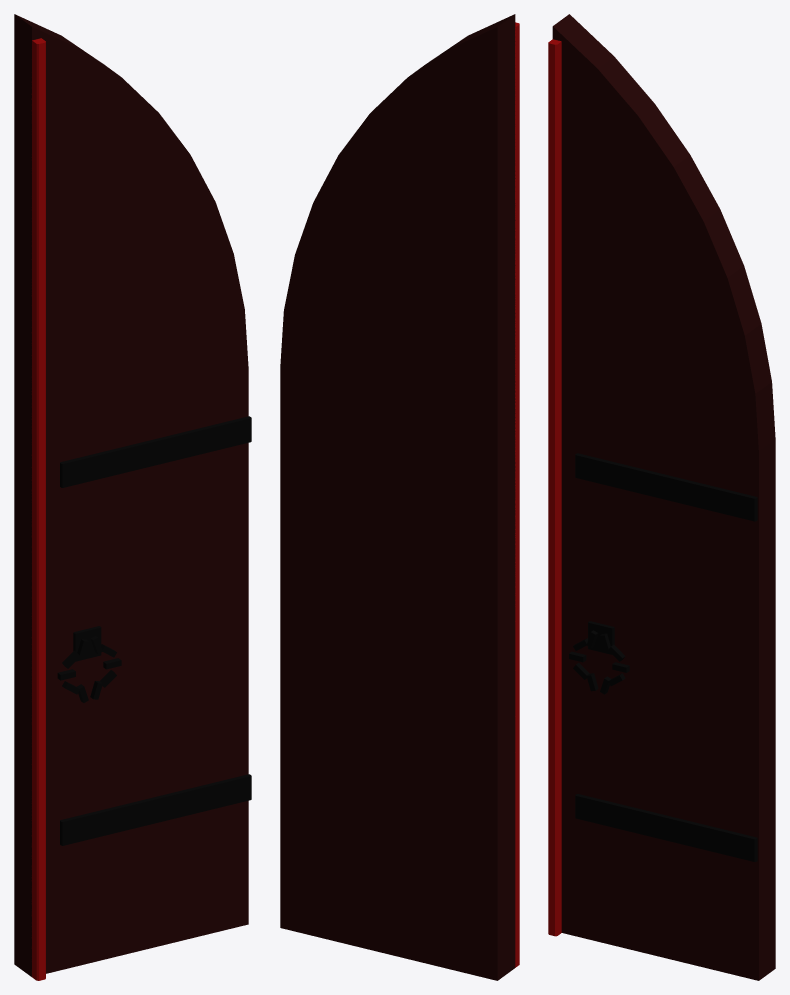
File: SilverbrookNorthridgeHouse1_Door2.fbx
3 views of the same model, side by side, from view 1: azimuth 30°, elevation 25°; view 2: azimuth 150°, elevation 25°; view 3: azimuth 330°, elevation 25° (orthographic). The views are drawn at different scales.
Visible parts, largest first — view 1: SM_SBNorthridgeHouse1_Door2_Part; view 2: SM_SBNorthridgeHouse1_Door2_Part; view 3: SM_SBNorthridgeHouse1_Door2_Part.
Part boxes in pixels (x1=…): SM_SBNorthridgeHouse1_Door2_Part: x1=14, y1=14, x2=251, y2=980; SM_SBNorthridgeHouse1_Door2_Part: x1=280, y1=14, x2=519, y2=980; SM_SBNorthridgeHouse1_Door2_Part: x1=548, y1=14, x2=775, y2=980.
Bounding box in the file's own units: 57 × 239 × 10.7.
